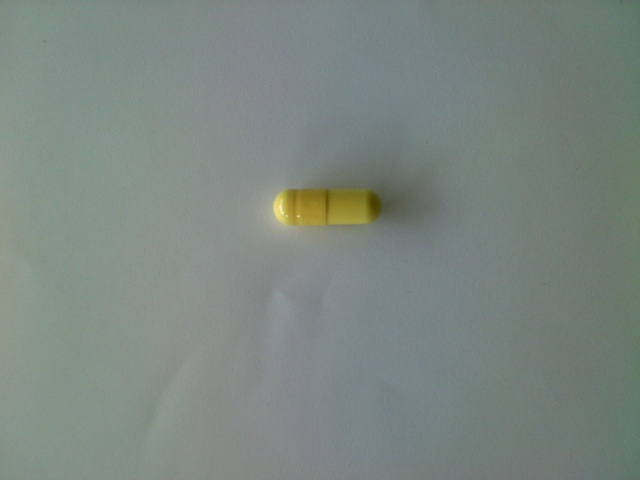capsule: (271, 185, 386, 230)
